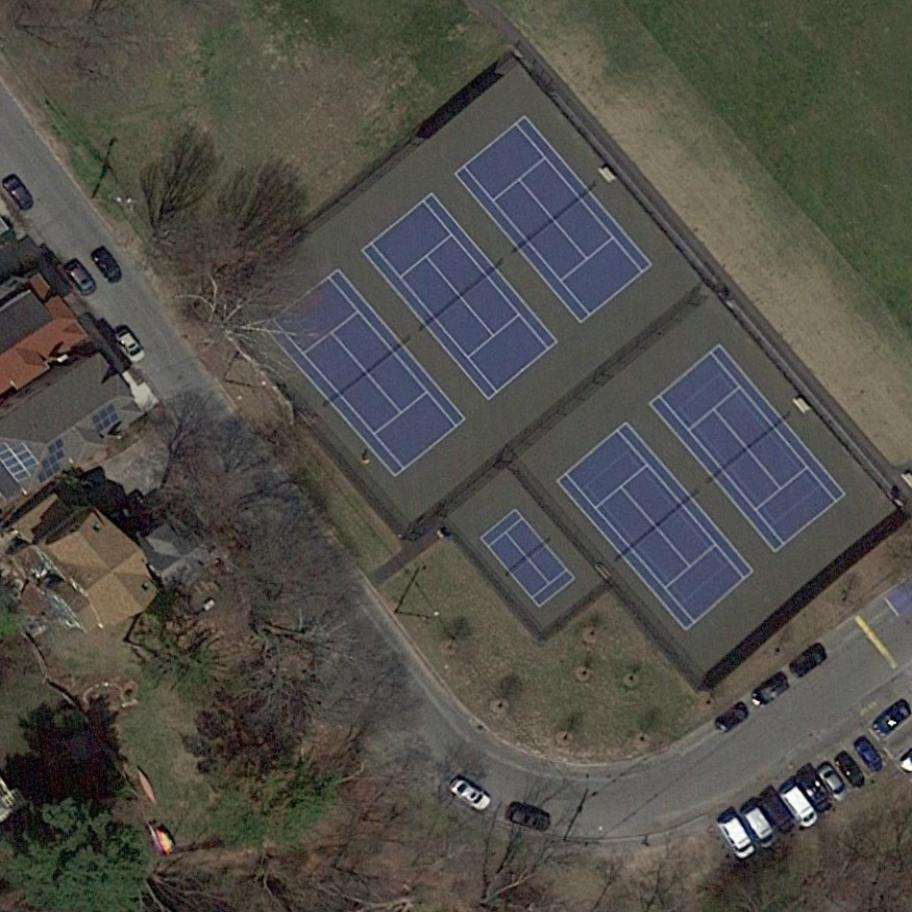small-vehicle: (775, 778, 823, 831), (755, 786, 802, 839), (735, 801, 781, 853), (444, 773, 496, 818), (715, 811, 758, 864), (794, 764, 839, 814), (847, 732, 891, 779), (869, 695, 912, 740), (815, 758, 855, 804), (787, 640, 831, 680), (831, 746, 870, 791), (89, 243, 127, 288), (505, 801, 556, 834), (749, 671, 793, 709), (111, 326, 150, 368), (61, 257, 99, 299), (1, 174, 38, 215), (710, 700, 751, 736)
